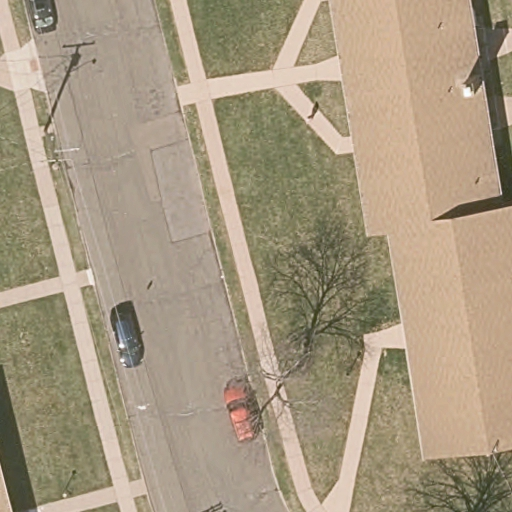DT: (43, 129, 79, 166)
